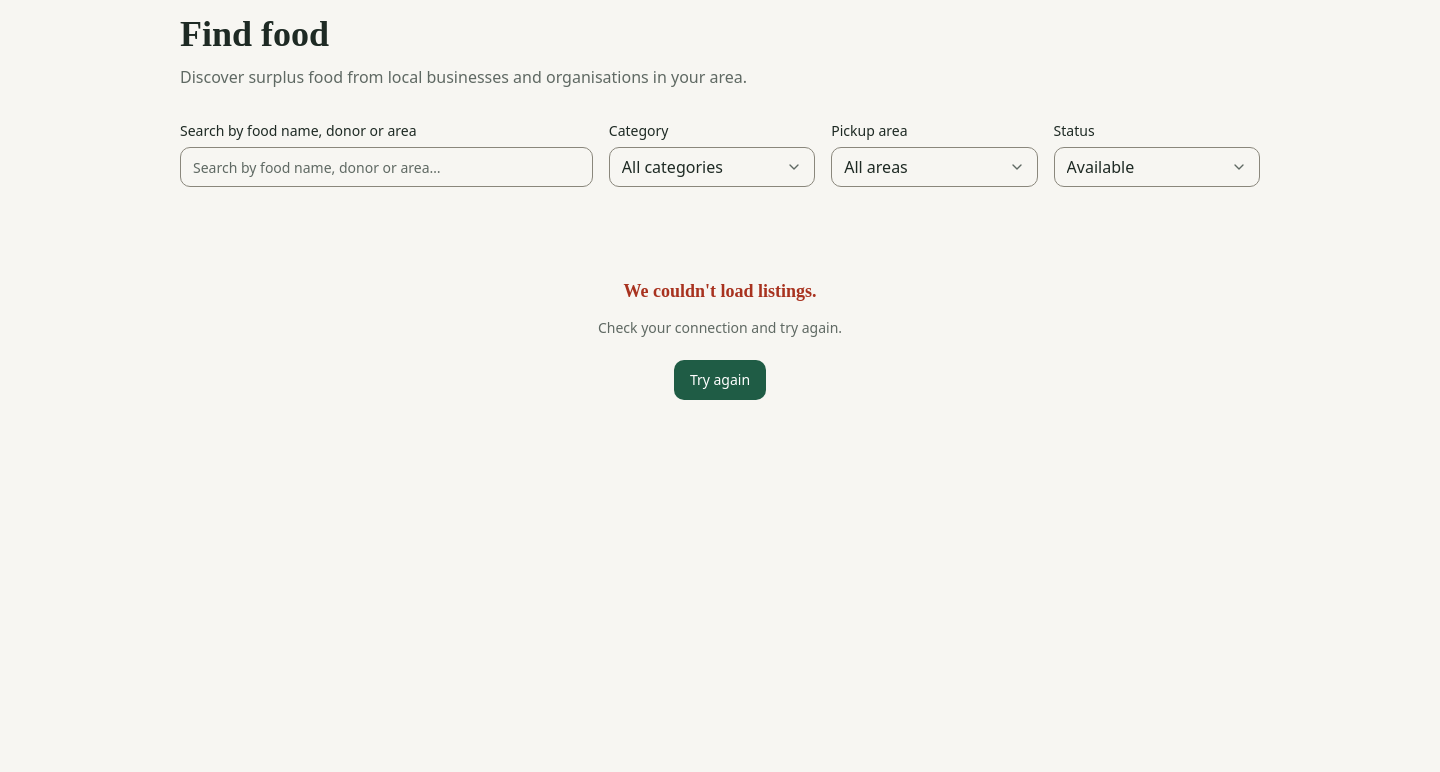
Find food: states › shows the error with Try again, which loads the listings once the service is back
Expected: the message shows "We couldn't load listings.", top-left (624, 281), bottom-right (816, 301)
Step 1. Click the button "Try again" → x=720, y=380, box top-left (674, 360), bottom-right (766, 400)
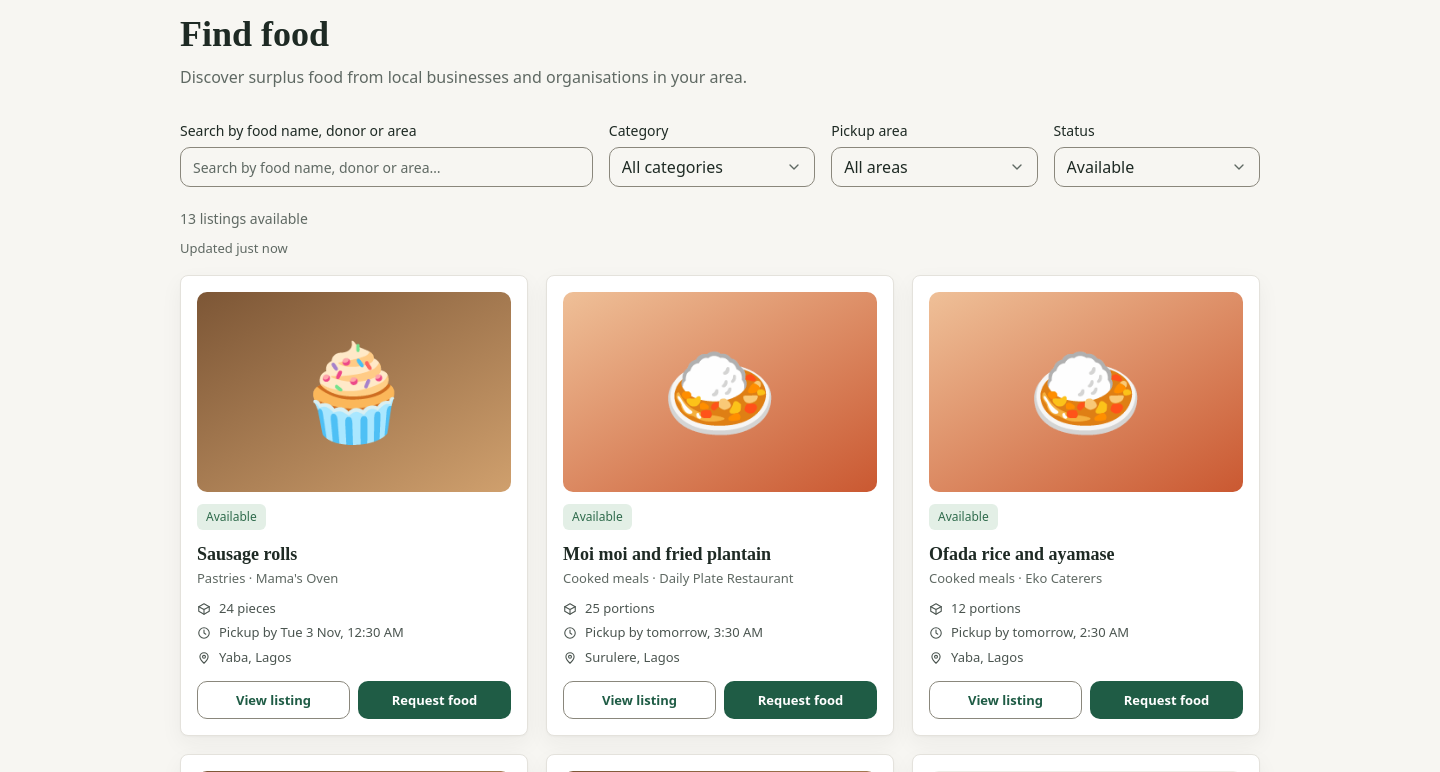
Expected: the heading "Sausage rolls" is shown, top-left (197, 544), bottom-right (297, 564)
